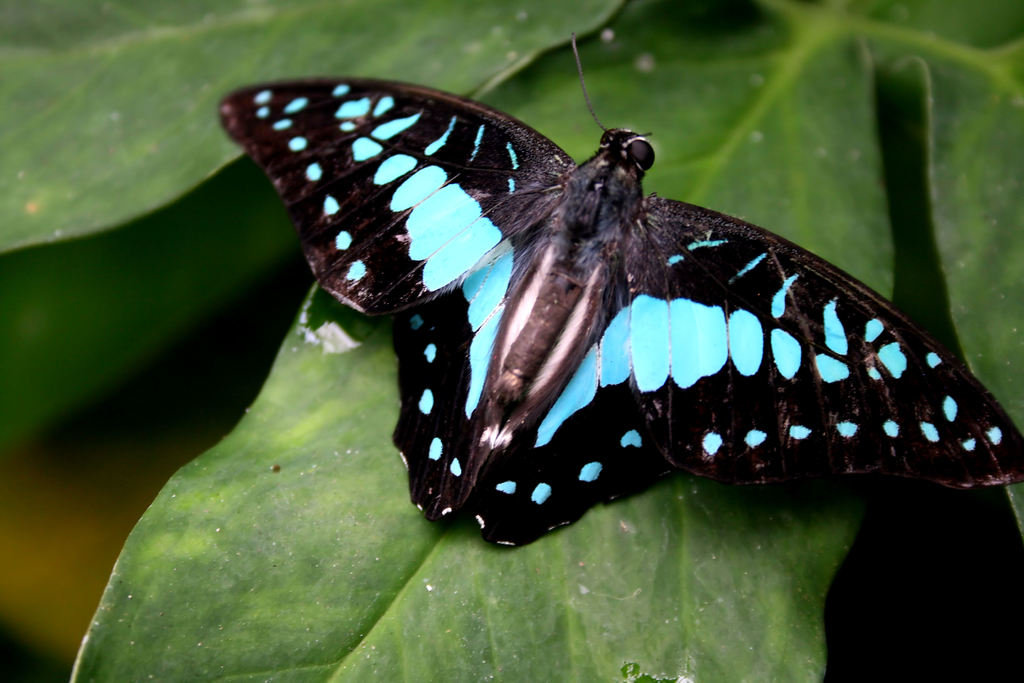Butterfly: (217, 69, 1024, 558)
